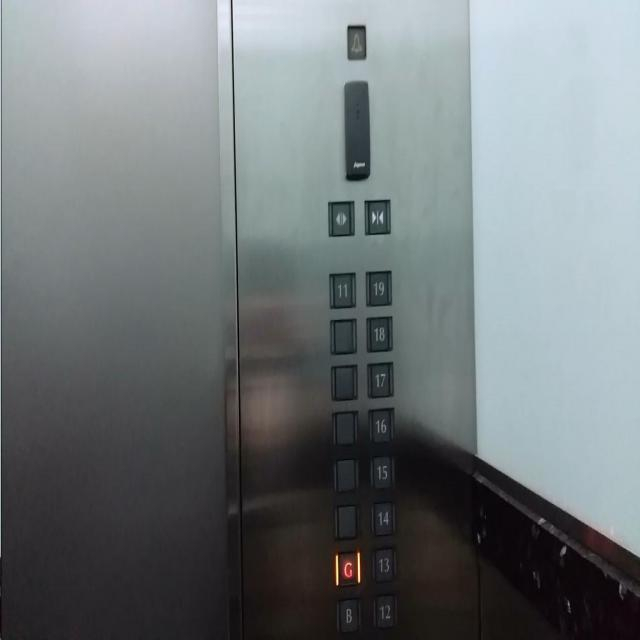11: (328, 271, 357, 310)
12: (371, 591, 398, 629)
13: (370, 545, 398, 583)
14: (370, 498, 398, 537)
15: (368, 452, 396, 490)
16: (367, 406, 395, 444)
17: (366, 360, 394, 398)
18: (366, 314, 394, 353)
19: (364, 268, 392, 307)
B: (334, 595, 362, 633)
G: (333, 548, 361, 587)
alarm: (346, 22, 367, 61)
close: (362, 197, 392, 235)
empty: (328, 316, 358, 355), (329, 362, 358, 401), (330, 408, 359, 447), (332, 455, 361, 494), (332, 501, 361, 540)
open: (326, 198, 355, 238)
